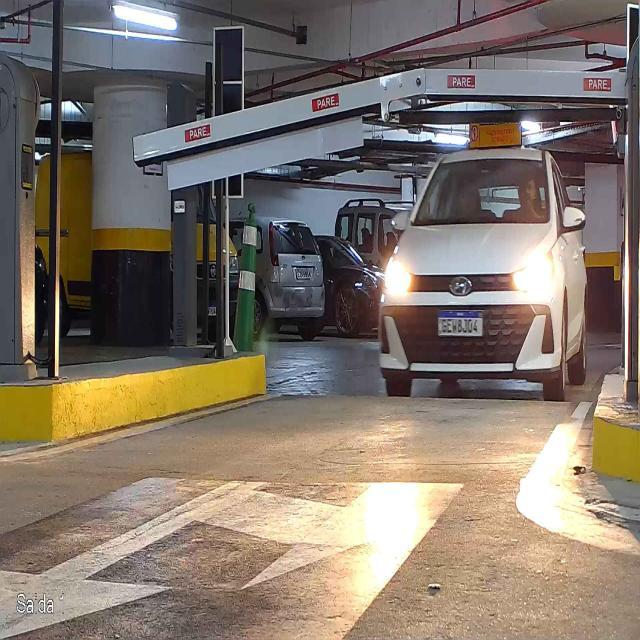mercosul_plate: (436, 310, 484, 338)
